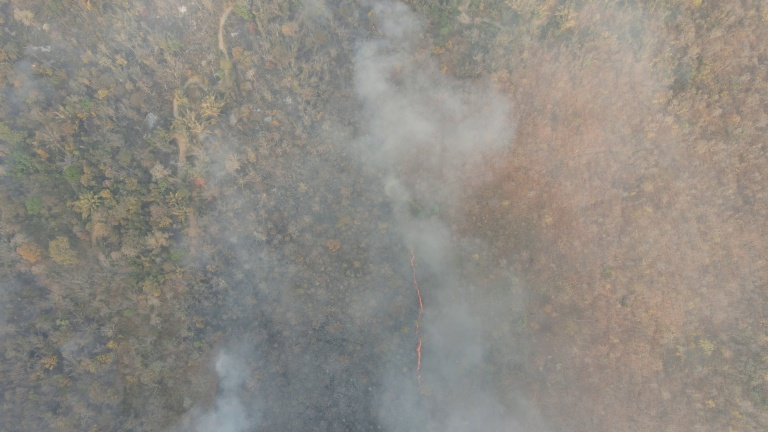fire: (400, 243, 431, 385)
smoke: (373, 230, 517, 432), (356, 25, 503, 198), (191, 346, 255, 432)
